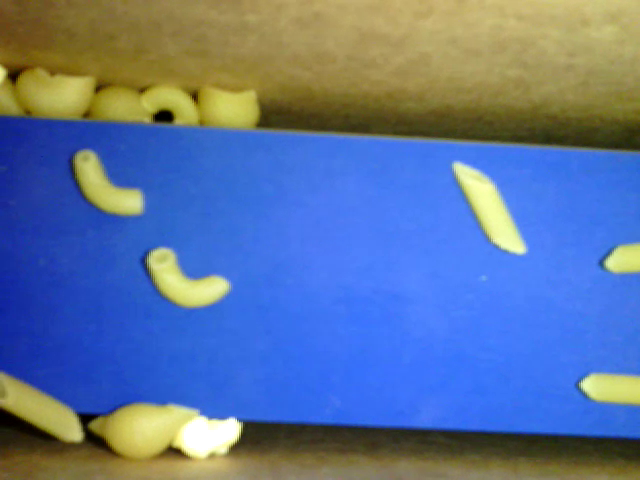elbow: (145, 248, 233, 309), (73, 149, 143, 214), (140, 87, 198, 130)
penne: (452, 158, 525, 257), (1, 377, 84, 445), (575, 371, 639, 404), (600, 243, 639, 275)
shell: (89, 401, 201, 458), (9, 64, 100, 120), (195, 77, 260, 129), (89, 84, 154, 125)
